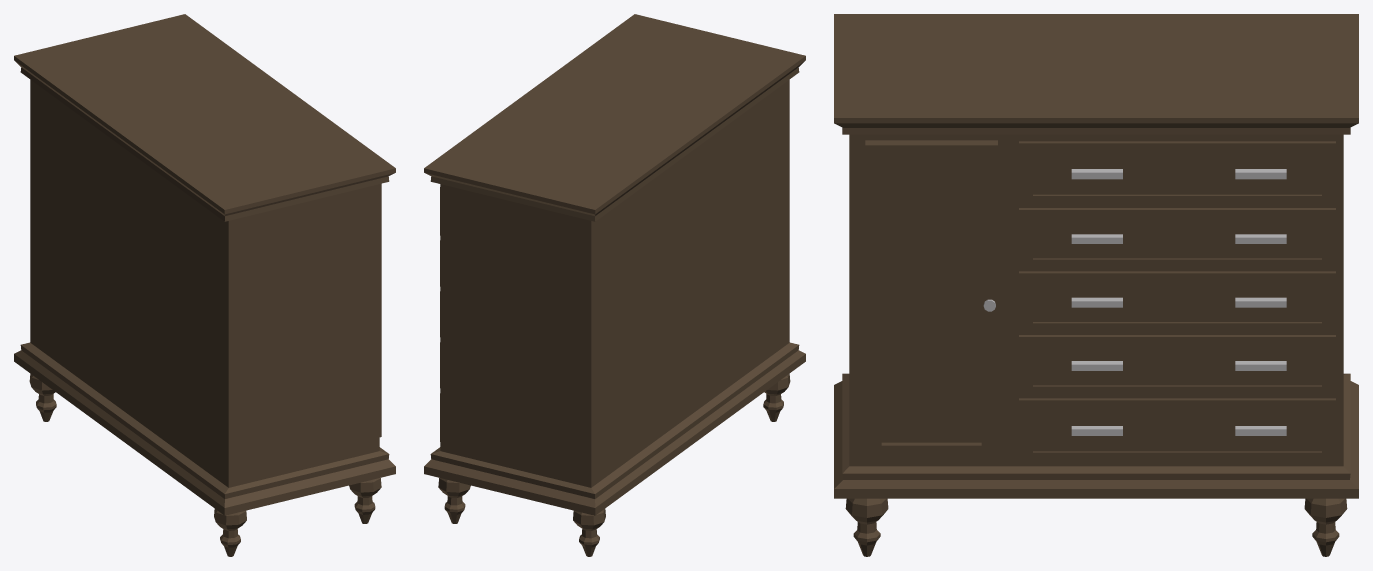
The model's file is SM_Cupboard_05.glb.
The picture shows the model from 3 angles, left to right: view 1: azimuth 30°, elevation 25°; view 2: azimuth 150°, elevation 25°; view 3: azimuth 270°, elevation 25°; orthographic projection. The views are drawn at different scales.
Parts seen in each view (by area): view 1: SM_Cupboard_05; view 2: SM_Cupboard_05; view 3: SM_Cupboard_05.
Boxes of the visible parts, box(x1,y1,x2,y2) form: SM_Cupboard_05: box(14, 14, 395, 556); SM_Cupboard_05: box(424, 14, 805, 556); SM_Cupboard_05: box(834, 14, 1358, 556).
Bounding box in the file's own units: 0.5624 × 1.12 × 1.19.
Materials: 1 (1 with a texture image).
